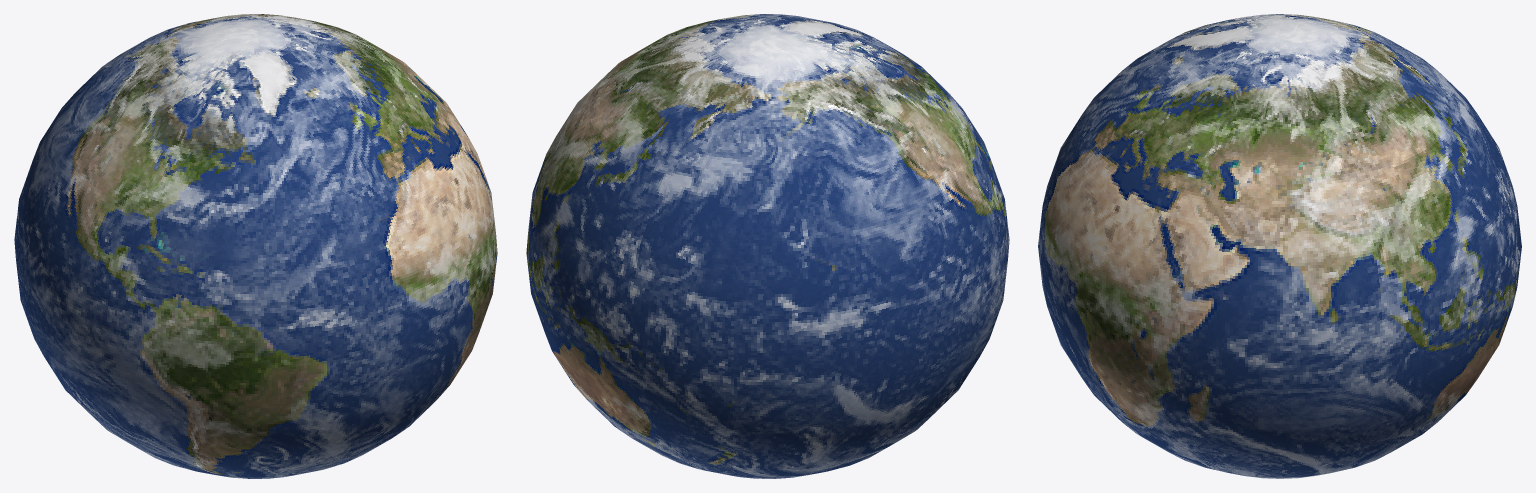
The model's file is earth.gltf.
3 views of the same model, side by side, from view 1: azimuth 30°, elevation 25°; view 2: azimuth 150°, elevation 25°; view 3: azimuth 270°, elevation 25° (orthographic).
Parts seen in each view (by area): view 1: 03 earth; view 2: 03 earth; view 3: 03 earth.
Boxes of the visible parts, bbox=[...] form: 03 earth: bbox=[14, 14, 497, 478]; 03 earth: bbox=[526, 14, 1009, 478]; 03 earth: bbox=[1038, 14, 1521, 478].
Bounding box in the file's own units: 12.77 × 12.19 × 12.77.
1 material, 1 textured.
